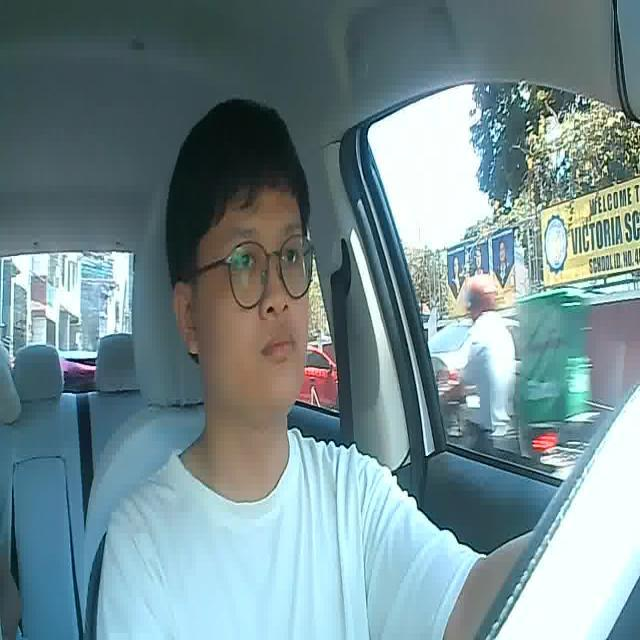Attentive: (165, 100, 313, 412)
Eye-Open: (227, 249, 259, 275), (278, 242, 302, 268)
Normal: (258, 326, 299, 369)
